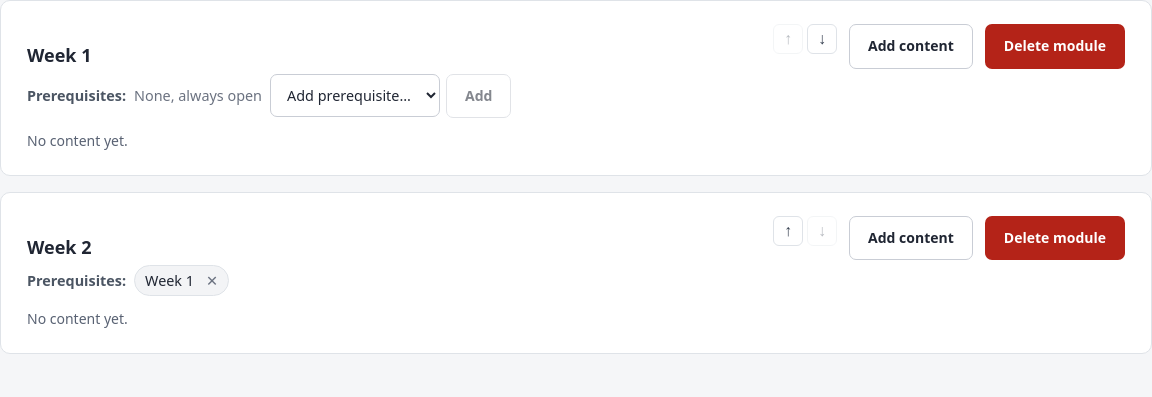
Test: ModuleList › lets a teacher remove a prerequisite and shows why a change was refused
This screenshot has width=1152, height=397.
Click the button named "Remove prerequisite Week 1": (212, 281) [200,269,224,292]
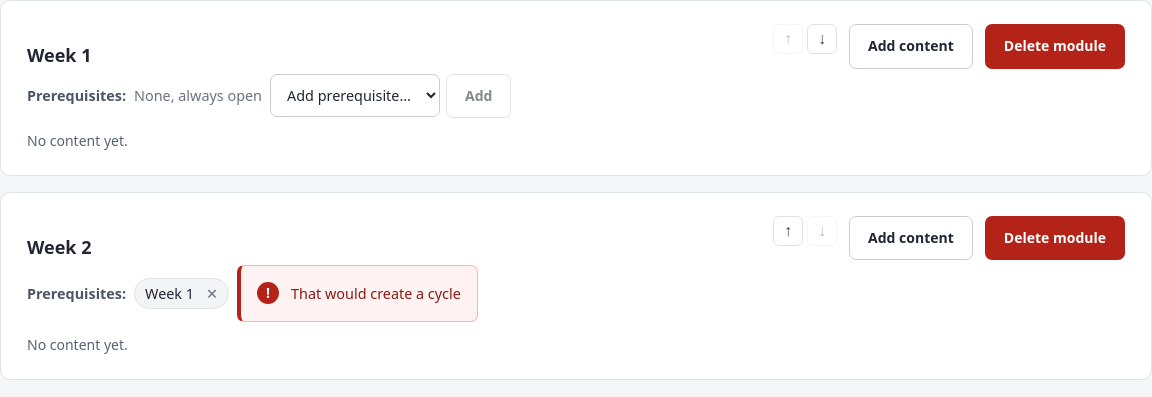
Expected: the text "That would create a cycle" is shown, [291,282,461,305]
